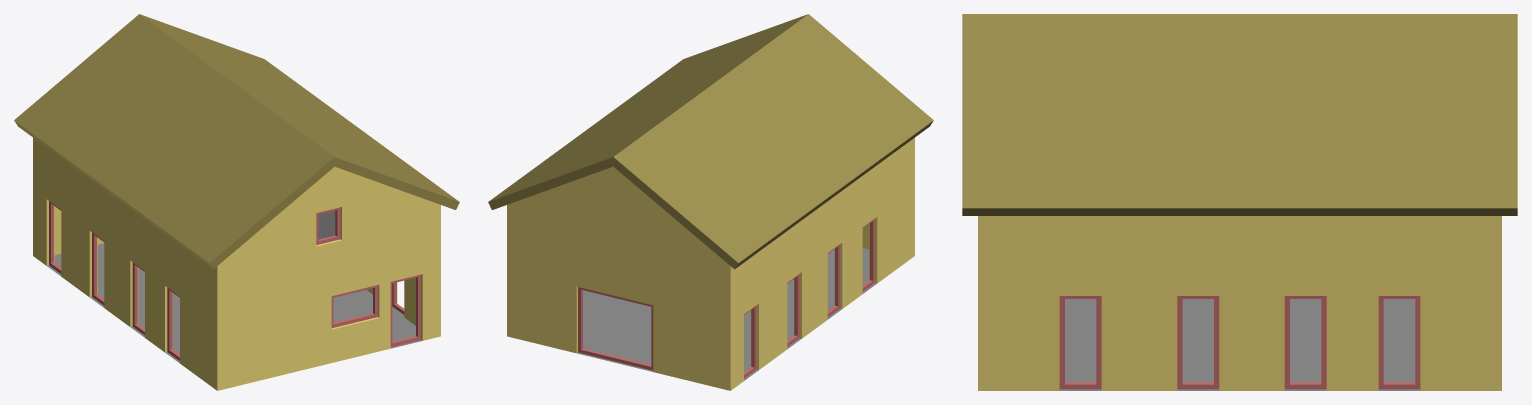
File: result.glb
3 renders of one model, left to right at view 1: azimuth 30°, elevation 25°; view 2: azimuth 150°, elevation 25°; view 3: azimuth 270°, elevation 25°, orthographic. The views are drawn at different scales.
Visible parts, largest first — view 1: 6051041e-2364-422d-a61c-951731f83890__undefined, 0ff2800c-ab5f-48a1-a945-85fac2125c3c__undefined (×2), de113dcf-e9f5-464f-b2ed-7f1891ef2ebf__Plane_20, fcf154a6-842b-4bbf-8144-190528139849__Box, ec95e2c2-8f25-4912-ae15-15c8b75457dc__Box_3, 42711b9f-a460-47c0-8f07-e30975ab333e__Box_60, 85dc6547-61fa-4eee-aba1-5e1302430c8e__Box_12, 58d3dd23-9495-490a-832b-144493f92b1d__Box_15, 95b0d5f8-6a4e-481f-a806-acee1da46eb9__Box_6, bb85a325-d99b-4062-a342-3360453ed980__Box_18, 92eba666-a511-48d7-800e-049264030ecb__Box_21; view 2: 0ff2800c-ab5f-48a1-a945-85fac2125c3c__undefined (×2), 6051041e-2364-422d-a61c-951731f83890__undefined, de113dcf-e9f5-464f-b2ed-7f1891ef2ebf__Plane_20, 1cc74a98-8be4-4f57-8436-cd63a0328d8b__Box_9, 92eba666-a511-48d7-800e-049264030ecb__Box_21, bb85a325-d99b-4062-a342-3360453ed980__Box_18, 85dc6547-61fa-4eee-aba1-5e1302430c8e__Box_12, 58d3dd23-9495-490a-832b-144493f92b1d__Box_15; view 3: 0ff2800c-ab5f-48a1-a945-85fac2125c3c__undefined, 6051041e-2364-422d-a61c-951731f83890__undefined, de113dcf-e9f5-464f-b2ed-7f1891ef2ebf__Plane_20, d731a7df-10c3-4542-a32a-79cbf2b9657e__Box_36, 16685c23-dd73-4195-ad35-4fffea654f03__Box_39, 4a9bd16e-5424-4820-a081-6ef01e6a45aa__Box_42, 5d09559a-469b-4a52-9281-392a0bf5c00b__Box_45.
Boxes of the visible parts, x1,y1,x2,y2 form: 6051041e-2364-422d-a61c-951731f83890__undefined: [33, 138, 440, 390]; 0ff2800c-ab5f-48a1-a945-85fac2125c3c__undefined (×2): [14, 14, 459, 269]; de113dcf-e9f5-464f-b2ed-7f1891ef2ebf__Plane_20: [47, 243, 421, 363]; fcf154a6-842b-4bbf-8144-190528139849__Box: [390, 274, 420, 347]; ec95e2c2-8f25-4912-ae15-15c8b75457dc__Box_3: [331, 285, 377, 328]; 42711b9f-a460-47c0-8f07-e30975ab333e__Box_60: [318, 210, 335, 239]; 85dc6547-61fa-4eee-aba1-5e1302430c8e__Box_12: [167, 288, 179, 360]; 58d3dd23-9495-490a-832b-144493f92b1d__Box_15: [132, 262, 144, 335]; 95b0d5f8-6a4e-481f-a806-acee1da46eb9__Box_6: [316, 207, 340, 244]; bb85a325-d99b-4062-a342-3360453ed980__Box_18: [92, 232, 104, 305]; 92eba666-a511-48d7-800e-049264030ecb__Box_21: [49, 201, 61, 273]; 0ff2800c-ab5f-48a1-a945-85fac2125c3c__undefined (×2): [488, 14, 933, 269]; 6051041e-2364-422d-a61c-951731f83890__undefined: [507, 138, 914, 390]; de113dcf-e9f5-464f-b2ed-7f1891ef2ebf__Plane_20: [577, 248, 876, 380]; 1cc74a98-8be4-4f57-8436-cd63a0328d8b__Box_9: [578, 287, 653, 370]; 92eba666-a511-48d7-800e-049264030ecb__Box_21: [744, 305, 756, 378]; bb85a325-d99b-4062-a342-3360453ed980__Box_18: [787, 274, 799, 346]; 85dc6547-61fa-4eee-aba1-5e1302430c8e__Box_12: [862, 219, 874, 291]; 58d3dd23-9495-490a-832b-144493f92b1d__Box_15: [827, 244, 839, 316]; 0ff2800c-ab5f-48a1-a945-85fac2125c3c__undefined: [962, 14, 1517, 215]; 6051041e-2364-422d-a61c-951731f83890__undefined: [978, 216, 1501, 390]; de113dcf-e9f5-464f-b2ed-7f1891ef2ebf__Plane_20: [1059, 299, 1420, 390]; d731a7df-10c3-4542-a32a-79cbf2b9657e__Box_36: [1059, 296, 1101, 389]; 16685c23-dd73-4195-ad35-4fffea654f03__Box_39: [1177, 296, 1219, 389]; 4a9bd16e-5424-4820-a081-6ef01e6a45aa__Box_42: [1284, 296, 1326, 389]; 5d09559a-469b-4a52-9281-392a0bf5c00b__Box_45: [1378, 296, 1420, 389].
Bounding box in the file's own units: 785 × 631 × 1060.
